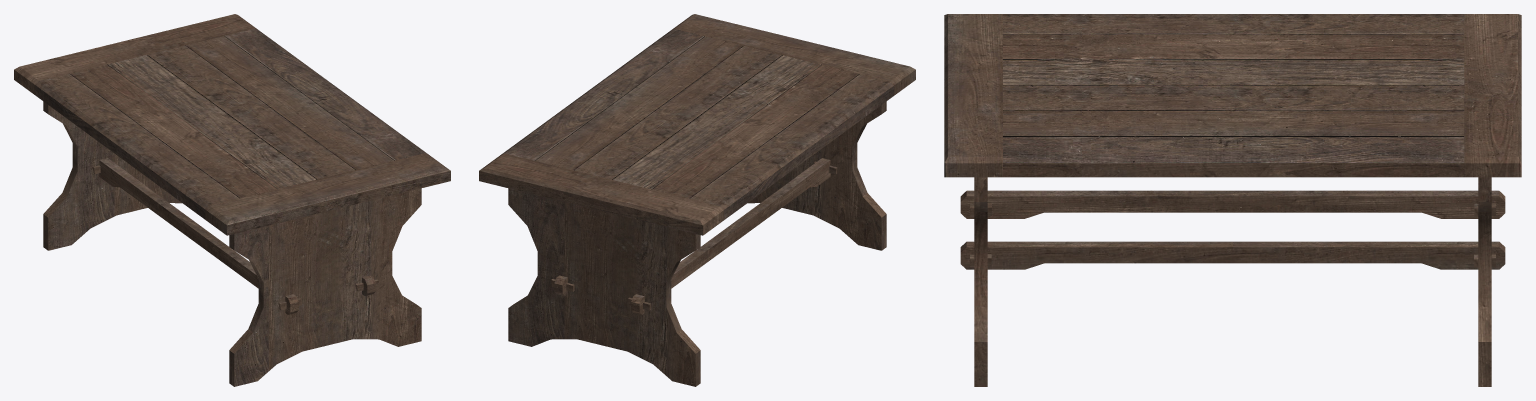
File: mw_table_01.FBX
The picture shows the model from 3 angles, left to right: view 1: azimuth 30°, elevation 25°; view 2: azimuth 150°, elevation 25°; view 3: azimuth 270°, elevation 25°; orthographic projection. The views are drawn at different scales.
Parts seen in each view (by area): view 1: mw_table_01; view 2: mw_table_01; view 3: mw_table_01.
Part boxes in pixels (box(x1,y1,x2,y2)): mw_table_01: box(14, 14, 450, 386); mw_table_01: box(479, 14, 915, 386); mw_table_01: box(944, 14, 1521, 386).
Size of the model in its own units: 142 by 107 by 233.
